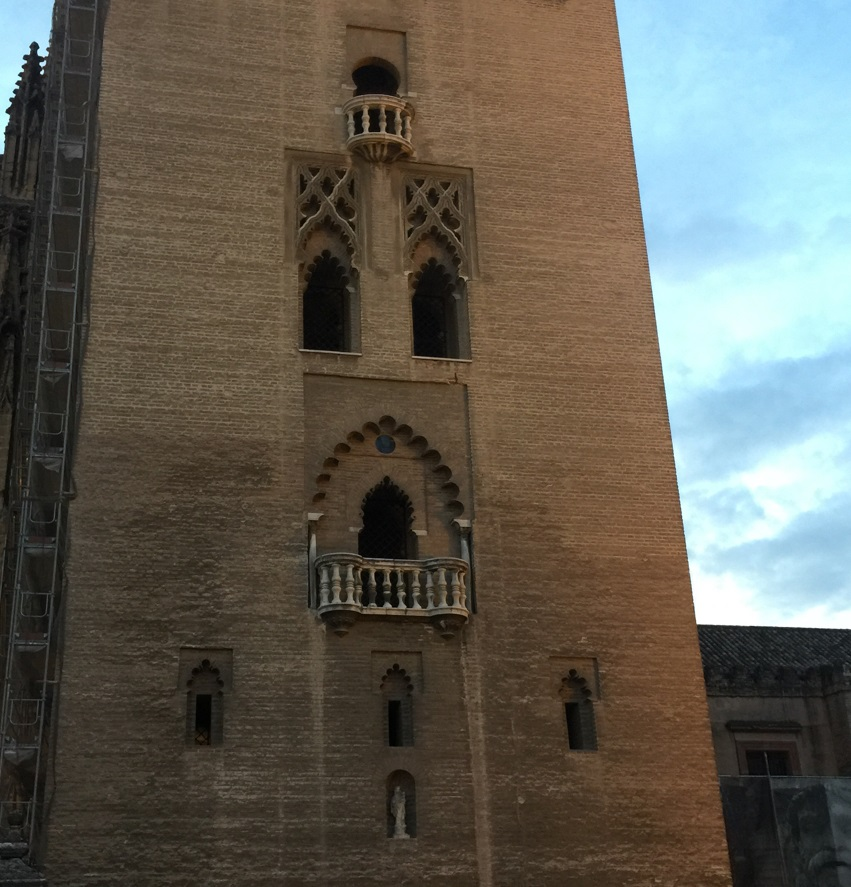arco-herradura: (347, 52, 406, 98)
arco-lobulado: (303, 407, 467, 531), (299, 244, 355, 297), (409, 253, 461, 304), (181, 657, 231, 699), (377, 660, 419, 703), (556, 665, 596, 707)
